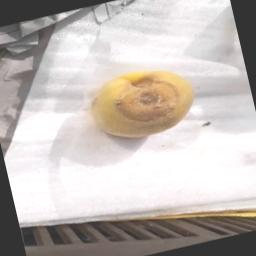Peach Rotten: (72, 54, 210, 163)
